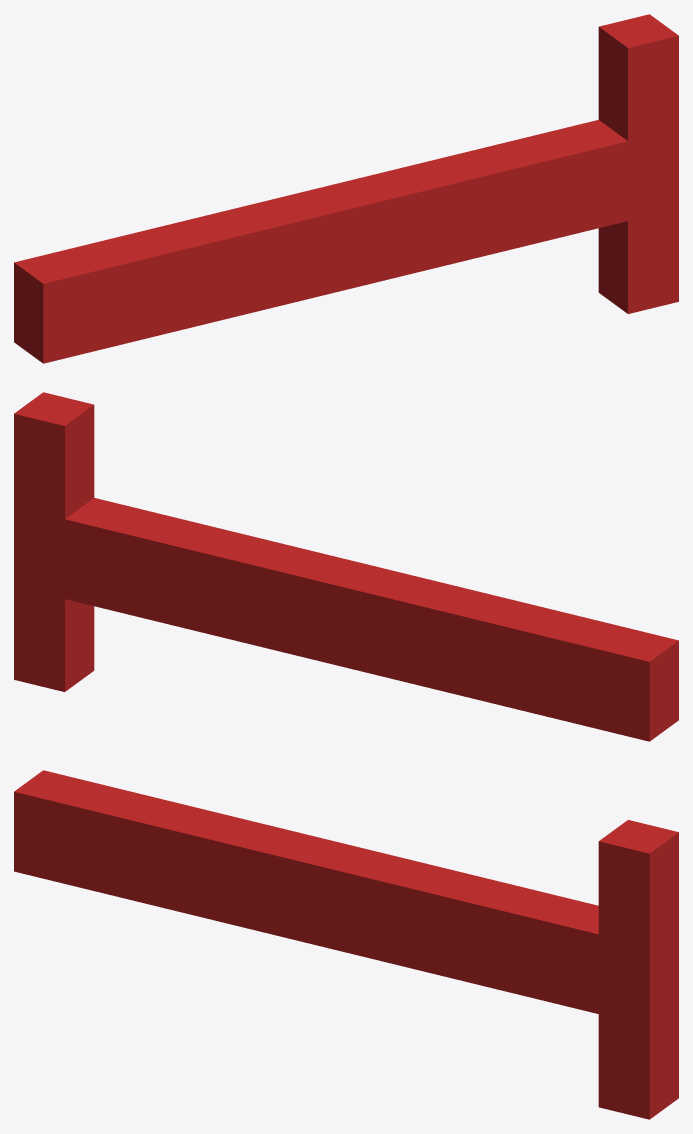
File: peg.obj
3 views of the same model, one above another, from view 1: azimuth 30°, elevation 25°; view 2: azimuth 150°, elevation 25°; view 3: azimuth 330°, elevation 25° (orthographic).
Visible parts, largest first — view 1: peg; view 2: peg; view 3: peg.
Boxes of the visible parts, bbox=[...] form: peg: bbox=[14, 14, 678, 363]; peg: bbox=[14, 392, 678, 741]; peg: bbox=[14, 770, 678, 1119].
Size of the model in its own units: 0.25 by 0.1 by 0.02.
1 material, 1 textured.
